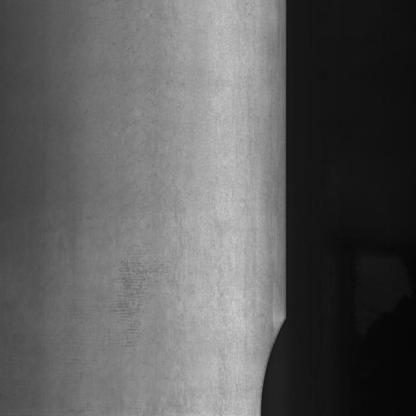crescent_gap: (249, 304, 292, 416)
